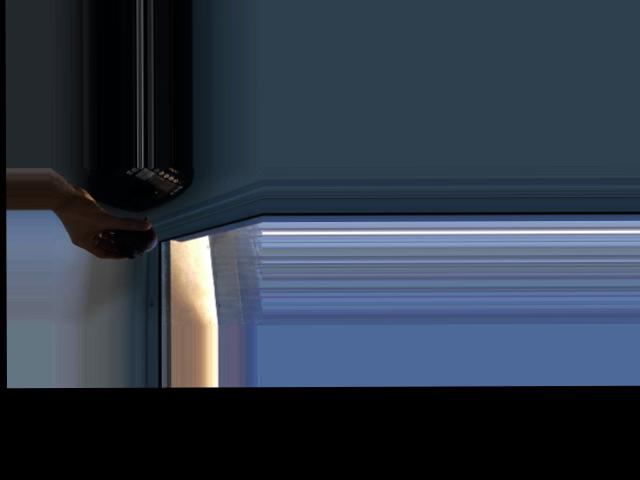beet: (109, 215, 158, 258)
